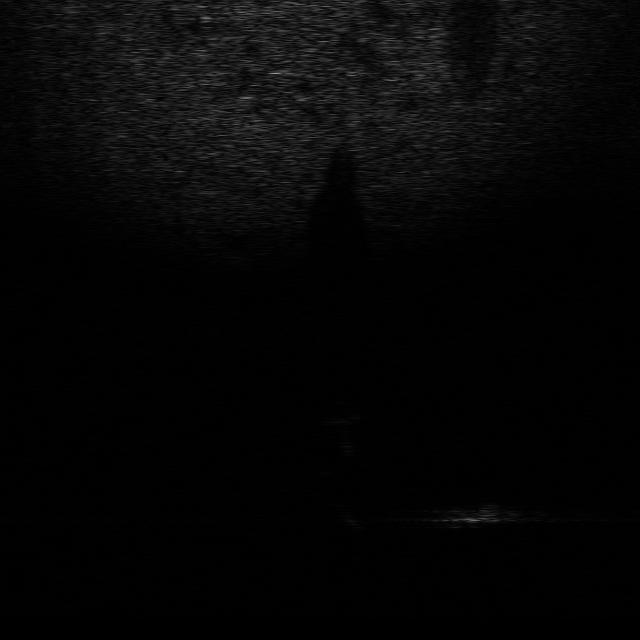ball: (313, 394, 372, 427)
metal bucket: (430, 498, 528, 532)
tyre: (324, 498, 375, 532)
